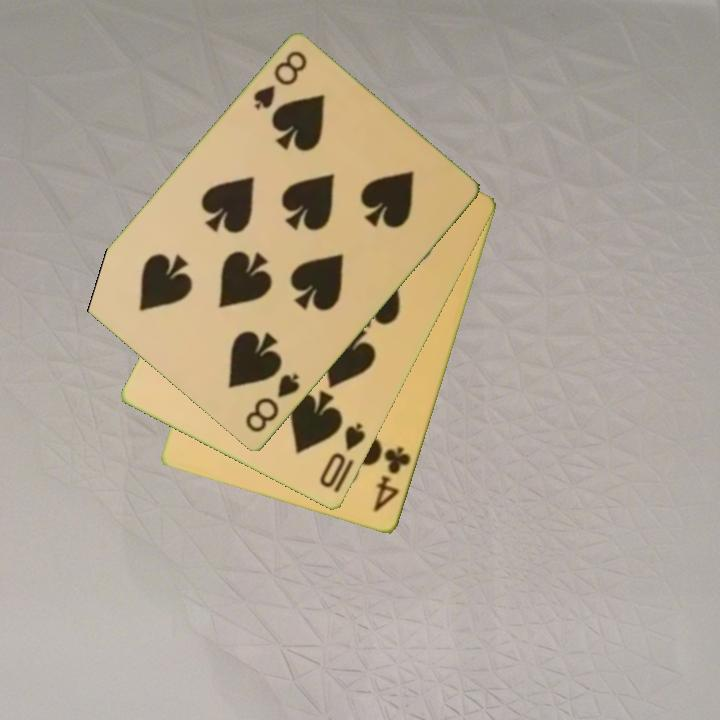10s: (316, 419, 369, 497)
4c: (370, 443, 415, 516)
8s: (241, 370, 303, 436), (249, 48, 310, 113)
